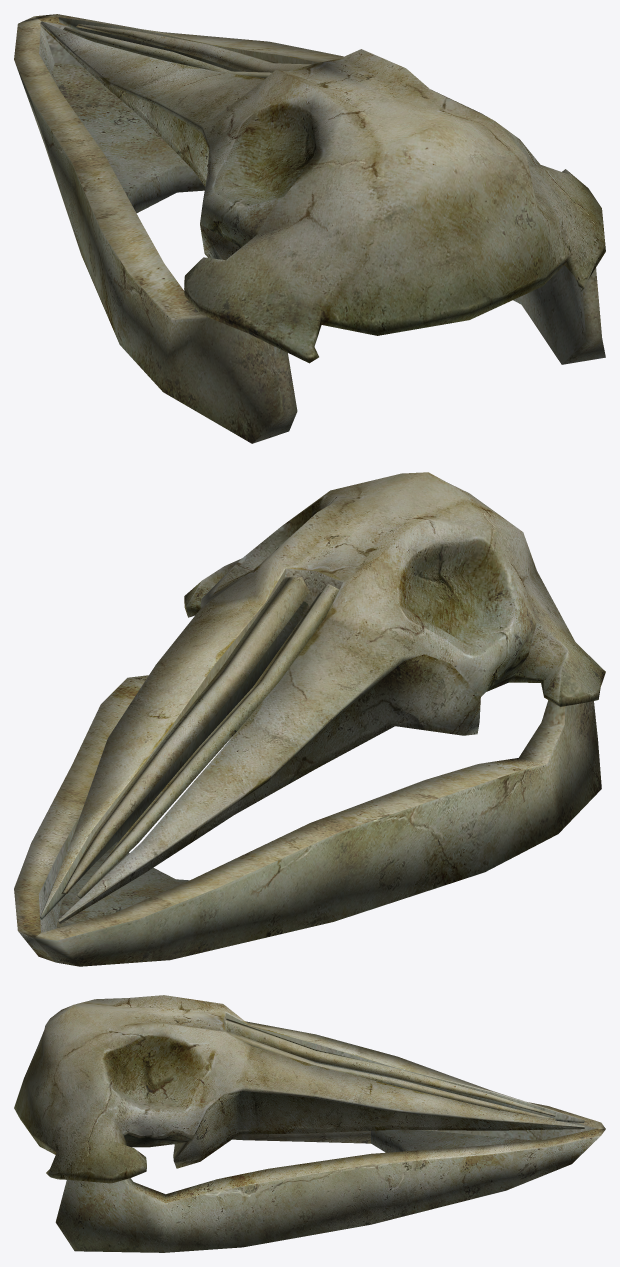
File: bone_whale_head00.fbx
3 views of the same model, one above another, from view 1: azimuth 30°, elevation 25°; view 2: azimuth 150°, elevation 25°; view 3: azimuth 270°, elevation 25° (orthographic). The views are drawn at different scales.
Parts seen in each view (by area): view 1: whale_bone_head00; view 2: whale_bone_head00; view 3: whale_bone_head00.
Part boxes in pixels (x1,y1,x2,y2): whale_bone_head00: (14,14,605,443); whale_bone_head00: (14,472,605,966); whale_bone_head00: (14,995,605,1252).
Size of the model in its own units: 6.93 by 4.48 by 13.04.
